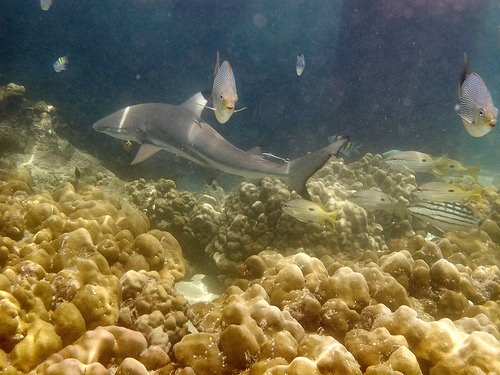shark: (81, 82, 358, 215)
